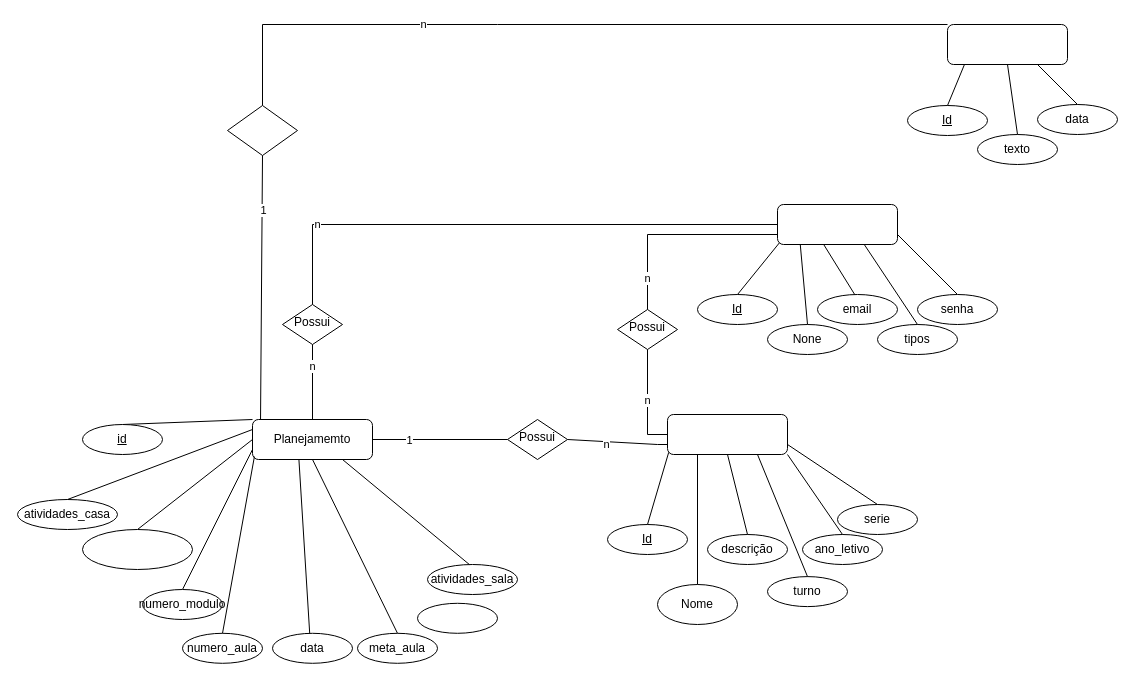
This 1135x681 diagram has some shape labels left out. The shapes that lost their labels are listed below. From the top down, each one's centre as x and y in pixels, then its label:
At pixel 1007 44: "Comentarios".
At pixel 262 130: "Vinculado".
At pixel 837 224: "Usuário".
At pixel 727 434: "Disciplina".
At pixel 137 549: "metodologia_aplica".
At pixel 457 617: "conteudo".
